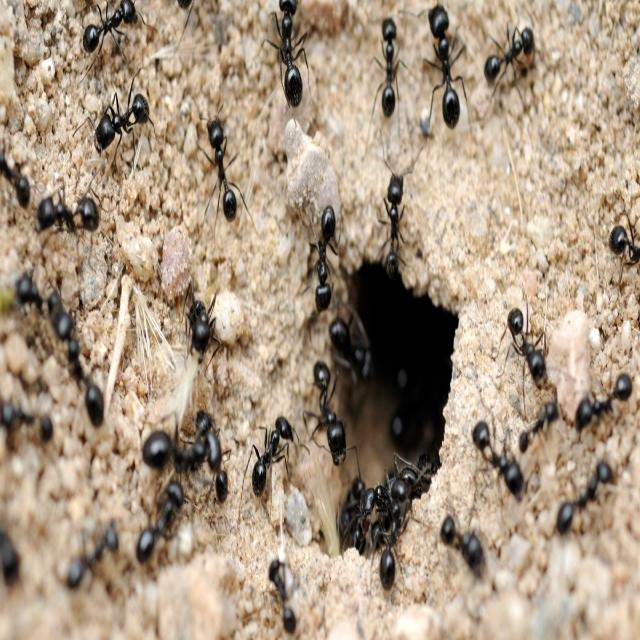ants: (548, 454, 620, 558), (465, 412, 532, 523), (244, 403, 300, 528), (421, 0, 467, 152), (477, 18, 548, 109), (570, 362, 634, 459), (501, 290, 553, 396), (140, 432, 230, 493), (303, 357, 351, 470), (376, 168, 414, 300), (82, 90, 154, 158), (200, 105, 242, 220), (34, 171, 102, 241), (304, 188, 339, 313), (374, 478, 410, 596), (74, 0, 140, 61), (274, 0, 308, 117), (257, 557, 304, 640), (371, 11, 404, 126)
